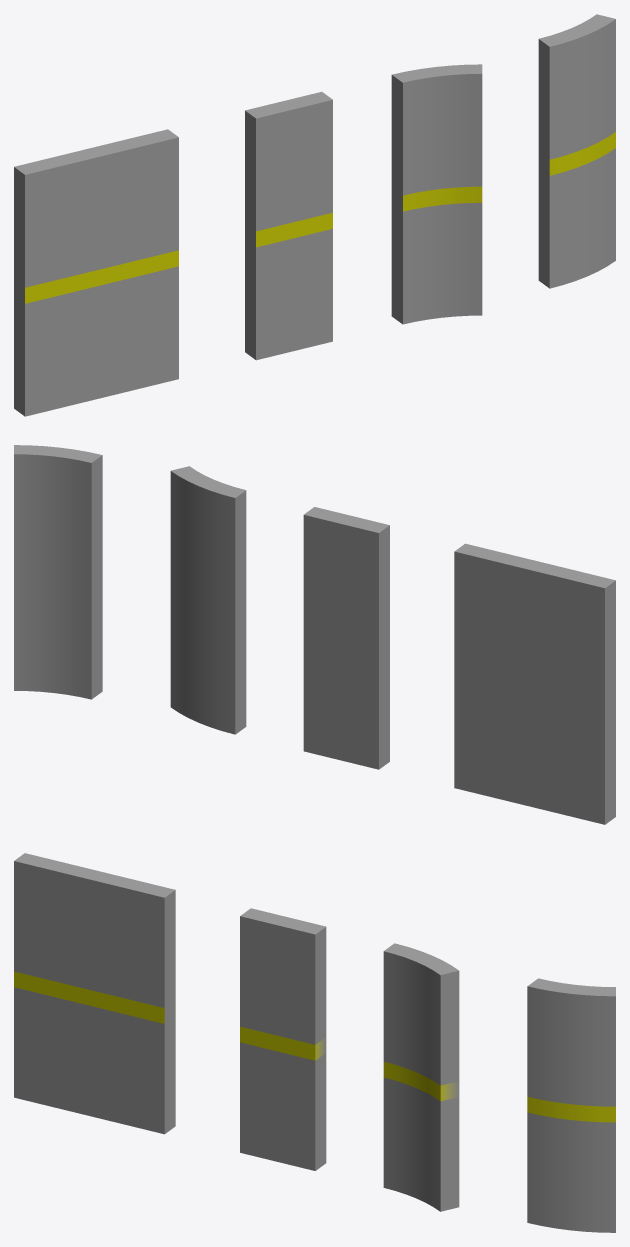
The model's file is Wall_Proto.fbx.
3 renders of one model, top to bottom at view 1: azimuth 30°, elevation 25°; view 2: azimuth 150°, elevation 25°; view 3: azimuth 330°, elevation 25°, orthographic. The views are drawn at different scales.
Parts seen in each view (by area): view 1: Wall_Straight_4, Wall_Straight_7, Wall_Straight_2, Wall_Straight_8; view 2: Wall_Straight_4, Wall_Straight_8, Wall_Straight_2, Wall_Straight_7; view 3: Wall_Straight_4, Wall_Straight_8, Wall_Straight_2, Wall_Straight_7.
Part boxes in pixels (x1,y1,x2,y2): Wall_Straight_4: (14, 129, 178, 416); Wall_Straight_7: (391, 64, 482, 324); Wall_Straight_2: (245, 91, 332, 360); Wall_Straight_8: (538, 14, 615, 288); Wall_Straight_4: (454, 543, 615, 824); Wall_Straight_8: (14, 445, 102, 699); Wall_Straight_2: (303, 507, 389, 769); Wall_Straight_7: (170, 466, 246, 734); Wall_Straight_4: (14, 853, 175, 1134); Wall_Straight_8: (527, 978, 615, 1232); Wall_Straight_2: (240, 908, 326, 1170); Wall_Straight_7: (383, 943, 459, 1211).
Size of the model in its own units: 1566 by 600 by 146.
